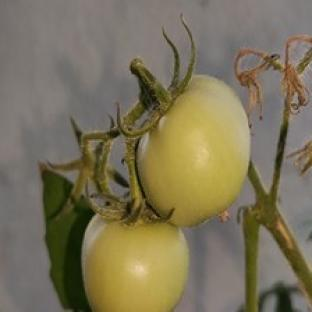Tomato: (137, 76, 249, 225), (83, 215, 189, 311)
